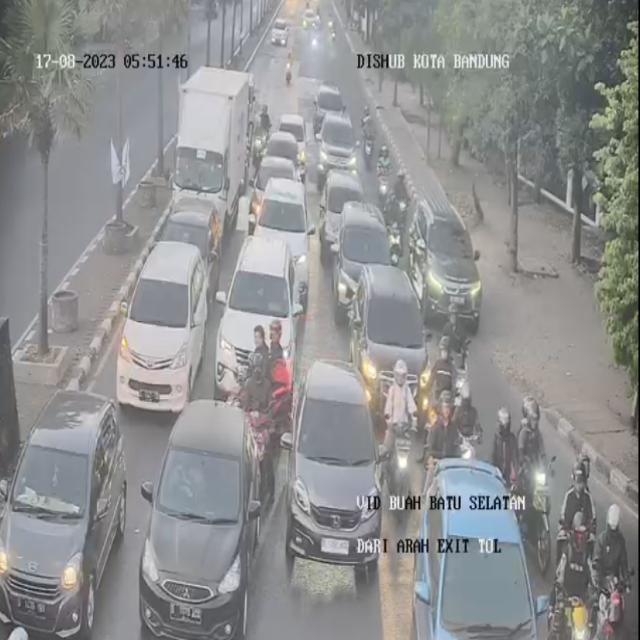cars: (0, 390, 126, 638), (139, 400, 262, 639), (410, 458, 546, 640), (281, 361, 384, 582), (116, 240, 208, 412), (215, 236, 304, 397), (349, 266, 429, 426), (409, 199, 483, 333), (254, 177, 315, 311), (331, 201, 392, 323), (161, 198, 222, 298), (320, 167, 363, 259), (316, 111, 358, 188), (250, 155, 299, 213), (314, 83, 345, 132), (279, 112, 307, 149)
motorcycle: (238, 333, 285, 511), (512, 402, 556, 578), (386, 358, 419, 522), (553, 512, 595, 640), (595, 507, 632, 640), (563, 459, 595, 594), (426, 390, 462, 500), (428, 336, 458, 418), (386, 166, 410, 242), (248, 125, 270, 180), (375, 144, 392, 205), (257, 103, 273, 155)
truck: (173, 65, 254, 231)
